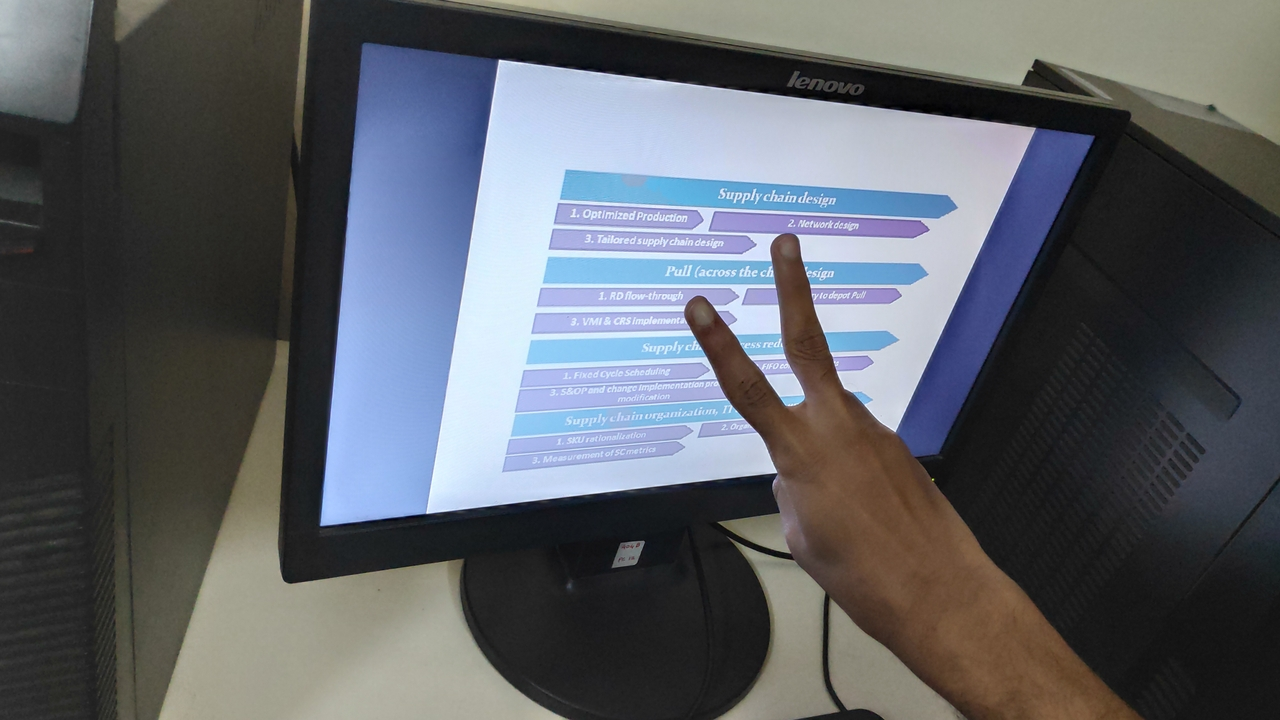fingertip: (678, 290, 736, 340), (766, 220, 818, 270)
